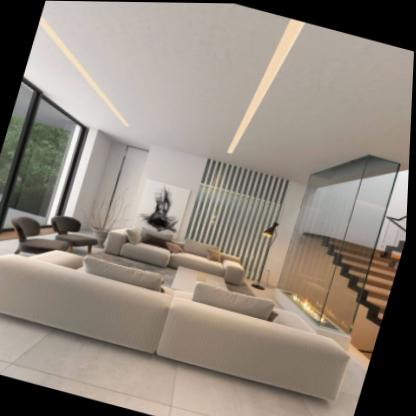Ceramic floor: (0, 313, 370, 416)
Sofa: (0, 222, 367, 407)
Wall Panel: (127, 143, 308, 280)
